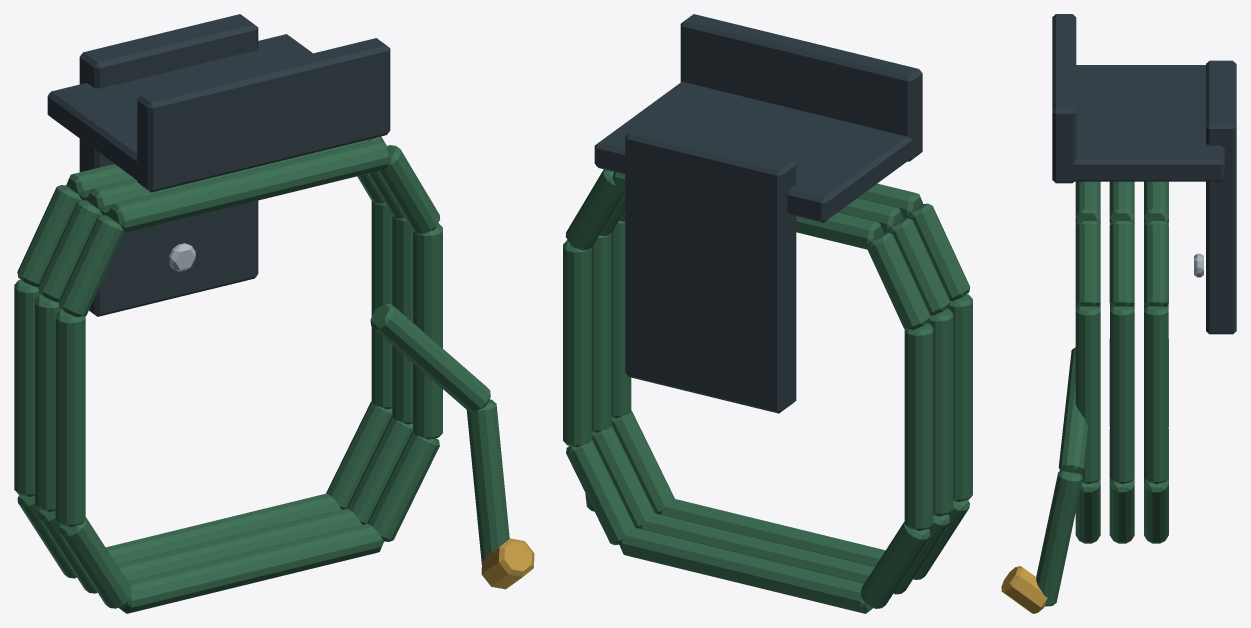
Rendered from b11_hose_saddle_with_coiled_hose.glb.
3 views of the same model, side by side, from view 1: azimuth 30°, elevation 25°; view 2: azimuth 150°, elevation 25°; view 3: azimuth 270°, elevation 25° (orthographic). The views are drawn at different scales.
Visible parts, largest first — view 1: b11_hose_saddle_with_coiled_hose; view 2: b11_hose_saddle_with_coiled_hose; view 3: b11_hose_saddle_with_coiled_hose.
Part boxes in pixels (left/top/right/bottom): b11_hose_saddle_with_coiled_hose: left=14, top=14, right=534, bottom=613; b11_hose_saddle_with_coiled_hose: left=563, top=14, right=972, bottom=613; b11_hose_saddle_with_coiled_hose: left=1001, top=14, right=1236, bottom=613.
Bounding box in the file's own units: 0.6034 × 0.7463 × 0.3446.
